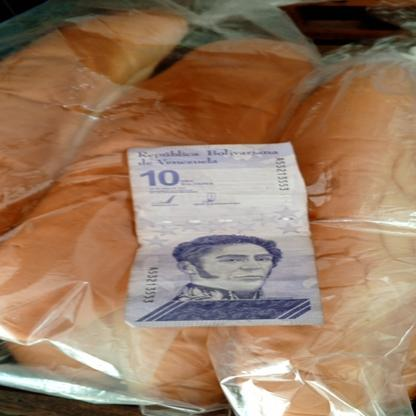ten-front-vef: (122, 140, 323, 330)
